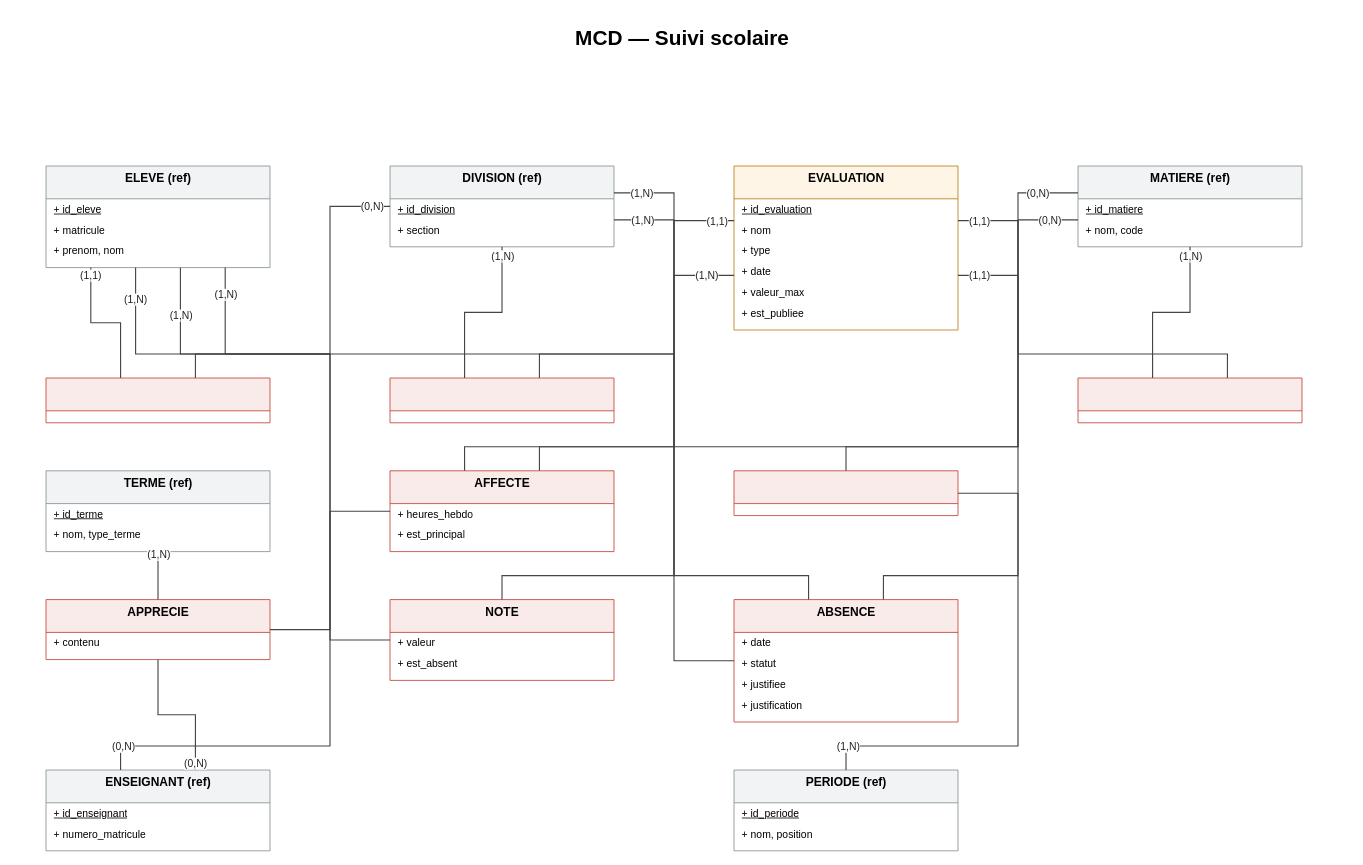
Some shapes in this 1363 by 865 pixel diagram are drawn without their labels. The shapes that lost their labels are listed below. From the top down, each one's centre as x and y in pixels, then its label:
pixel 157 400: INSCRIT_DANS
pixel 501 400: PROPOSE
pixel 1189 400: PORTE_SUR
pixel 845 493: PLANIFIEE_EN
